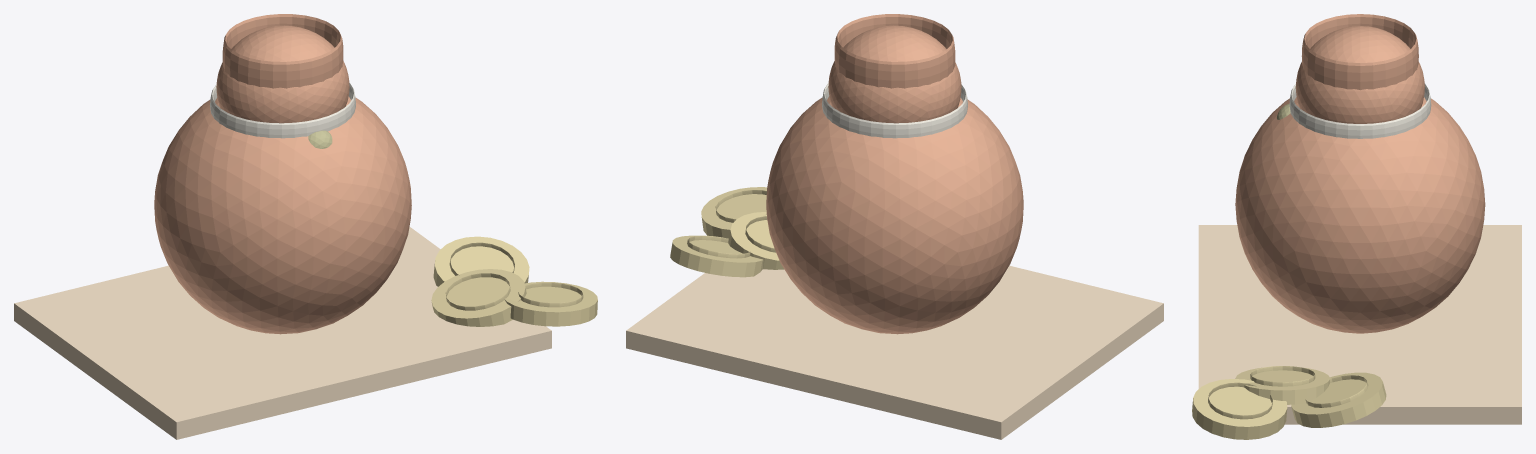
The model's file is item_coin.glb.
3 renders of one model, left to right at view 1: azimuth 30°, elevation 25°; view 2: azimuth 150°, elevation 25°; view 3: azimuth 270°, elevation 25°, orthographic.
Parts seen in each view (by area): view 1: Mat, Pouch_Body, Pouch_Neck, Pouch_Rim, Coin_0, Coin_1, Coin_2, Rope, Coin_Rim_0, Coin_Rim_1; view 2: Mat, Pouch_Body, Pouch_Neck, Pouch_Rim, Rope, Coin_2, Coin_1, Coin_0, Coin_Rim_2; view 3: Pouch_Body, Mat, Pouch_Neck, Pouch_Rim, Coin_1, Coin_2, Rope, Coin_0, Coin_Rim_0, Coin_Rim_1, Coin_Rim_2.
Part boxes in pixels (x1=…): Mat: x1=14, y1=226, x2=551, y2=439; Pouch_Body: x1=154, y1=96, x2=411, y2=334; Pouch_Neck: x1=216, y1=25, x2=349, y2=123; Pouch_Rim: x1=222, y1=14, x2=343, y2=88; Coin_0: x1=431, y1=269, x2=526, y2=326; Coin_1: x1=504, y1=281, x2=597, y2=326; Coin_2: x1=433, y1=236, x2=529, y2=286; Rope: x1=210, y1=83, x2=355, y2=138; Coin_Rim_0: x1=445, y1=273, x2=510, y2=310; Coin_Rim_1: x1=518, y1=282, x2=583, y2=307; Mat: x1=626, y1=265, x2=1163, y2=439; Pouch_Body: x1=766, y1=96, x2=1023, y2=334; Pouch_Neck: x1=828, y1=25, x2=961, y2=123; Pouch_Rim: x1=834, y1=14, x2=955, y2=88; Rope: x1=822, y1=83, x2=967, y2=138; Coin_2: x1=670, y1=235, x2=763, y2=277; Coin_1: x1=701, y1=187, x2=767, y2=238; Coin_0: x1=728, y1=212, x2=784, y2=269; Coin_Rim_2: x1=687, y1=235, x2=750, y2=258; Pouch_Body: x1=1235, y1=97, x2=1485, y2=333; Mat: x1=1198, y1=225, x2=1521, y2=424; Pouch_Neck: x1=1295, y1=26, x2=1424, y2=123; Pouch_Rim: x1=1301, y1=14, x2=1418, y2=90; Coin_1: x1=1192, y1=379, x2=1287, y2=439; Coin_2: x1=1291, y1=372, x2=1386, y2=427; Rope: x1=1289, y1=83, x2=1431, y2=138; Coin_0: x1=1235, y1=367, x2=1329, y2=404; Coin_Rim_0: x1=1250, y1=366, x2=1315, y2=386; Coin_Rim_1: x1=1208, y1=382, x2=1272, y2=419; Coin_Rim_2: x1=1305, y1=375, x2=1368, y2=407.
Size of the model in its own units: 1.16 by 0.7705 by 0.7656.
